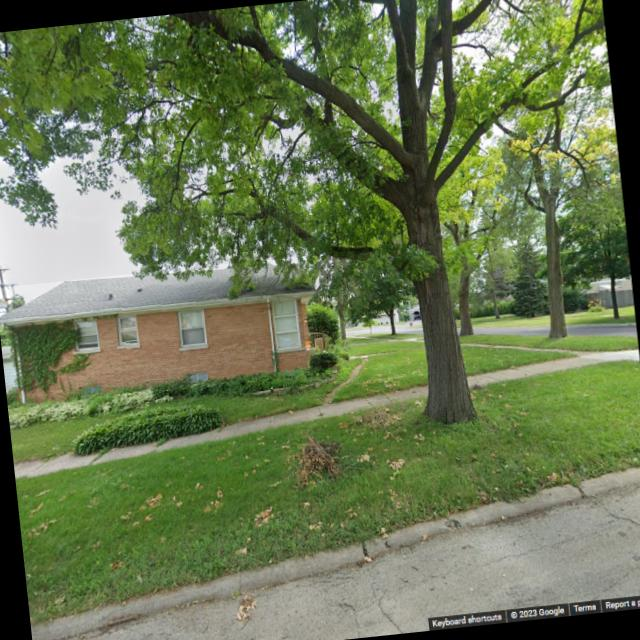House: (0, 254, 322, 407)
